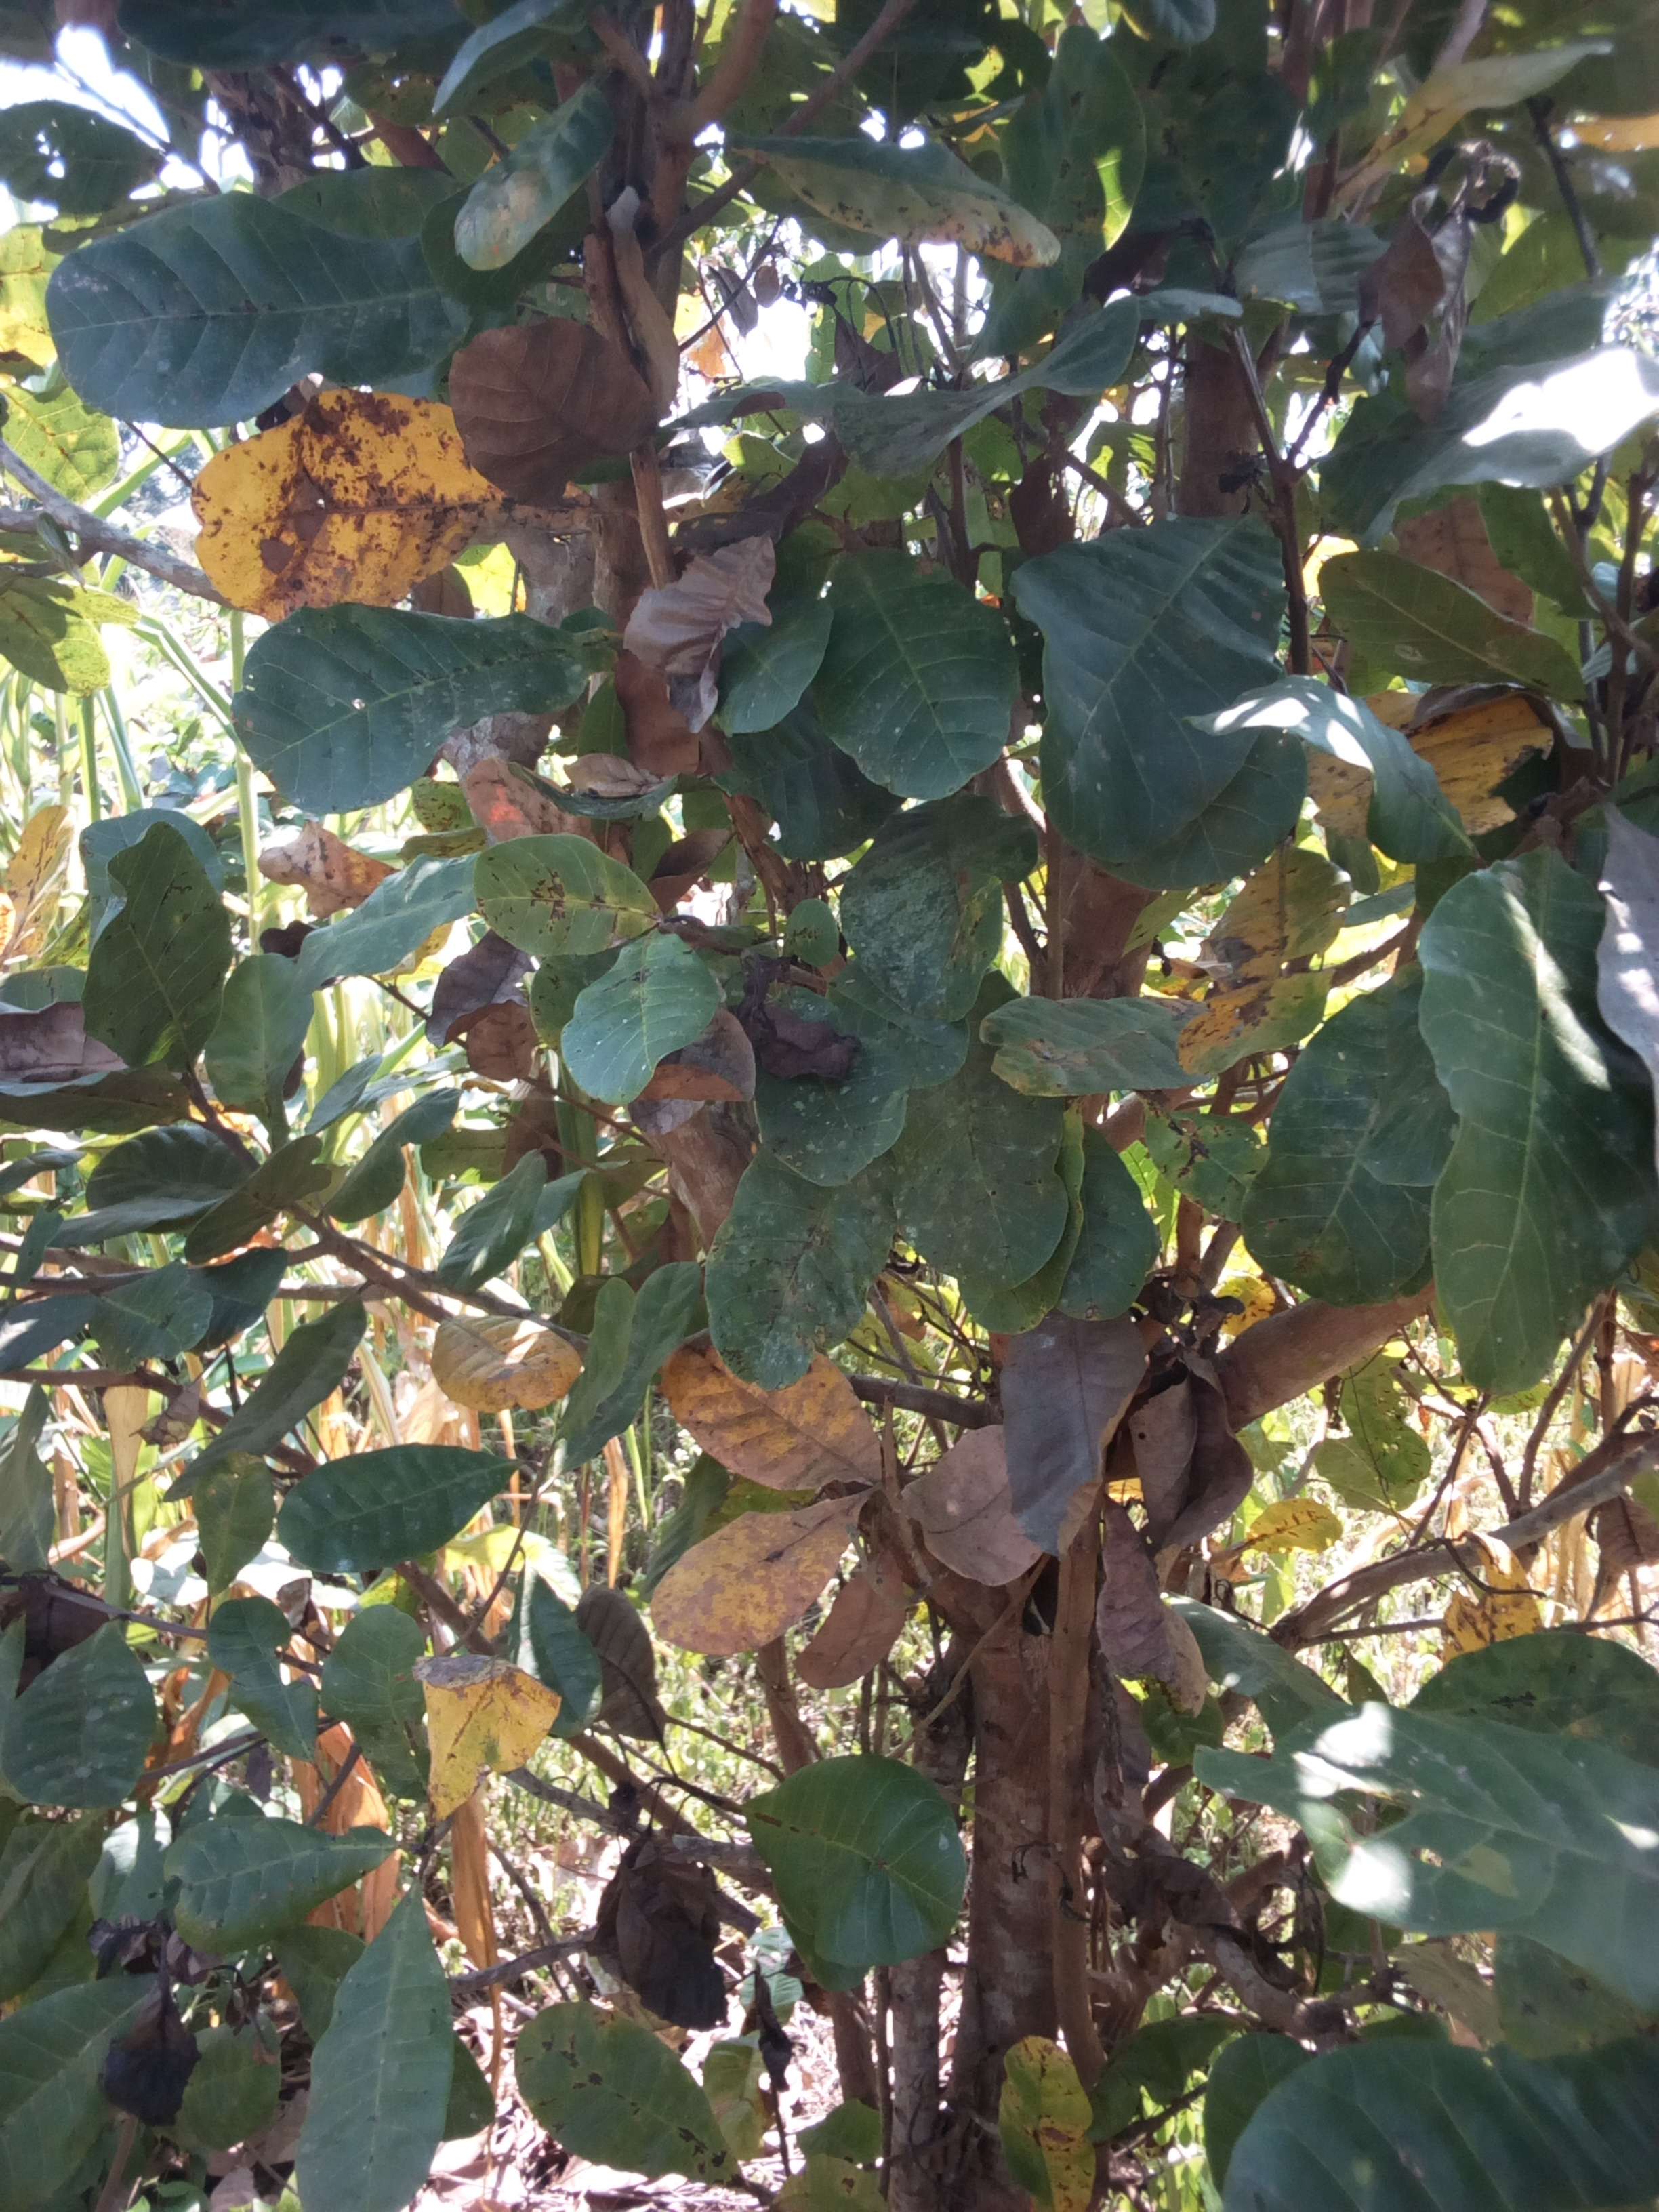Oidium: (664, 1163, 915, 1411)
